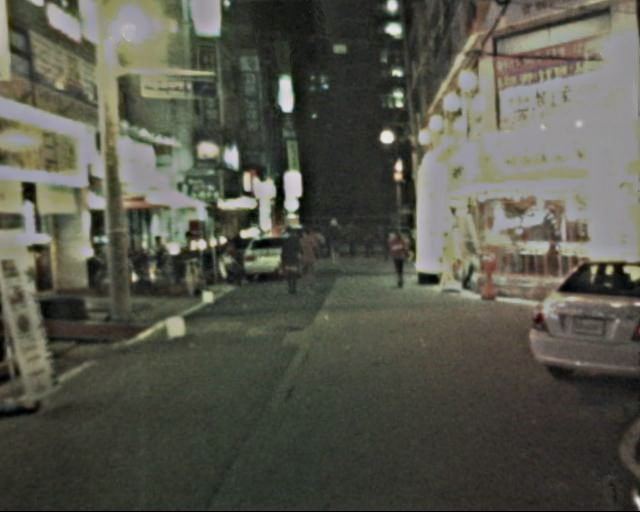person: (274, 226, 305, 297), (290, 223, 319, 295), (386, 225, 412, 289), (324, 217, 344, 265), (361, 228, 386, 257), (344, 220, 360, 260)
